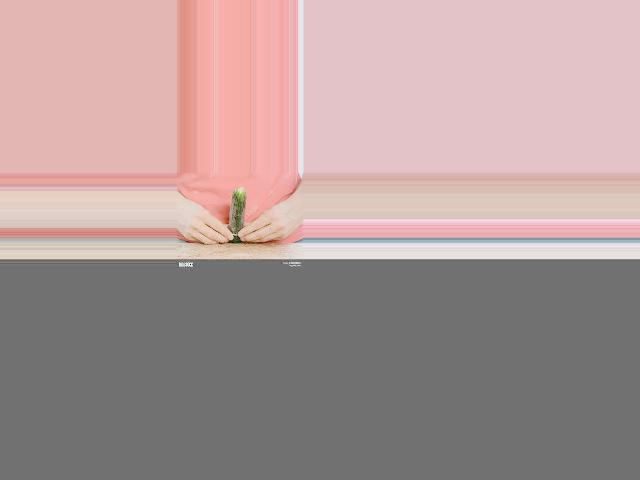cucumber: (229, 188, 247, 243)
